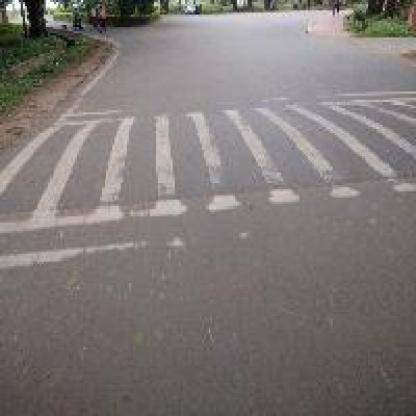Speed Bump: (3, 92, 415, 270)
